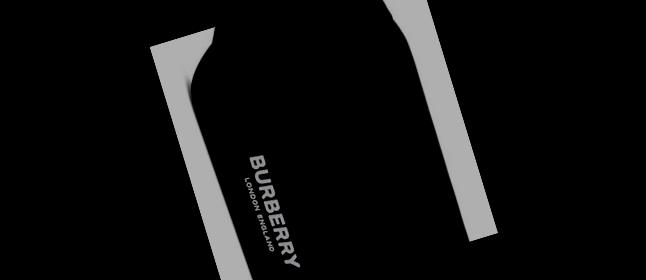BURBERRY: (248, 152, 300, 272)
